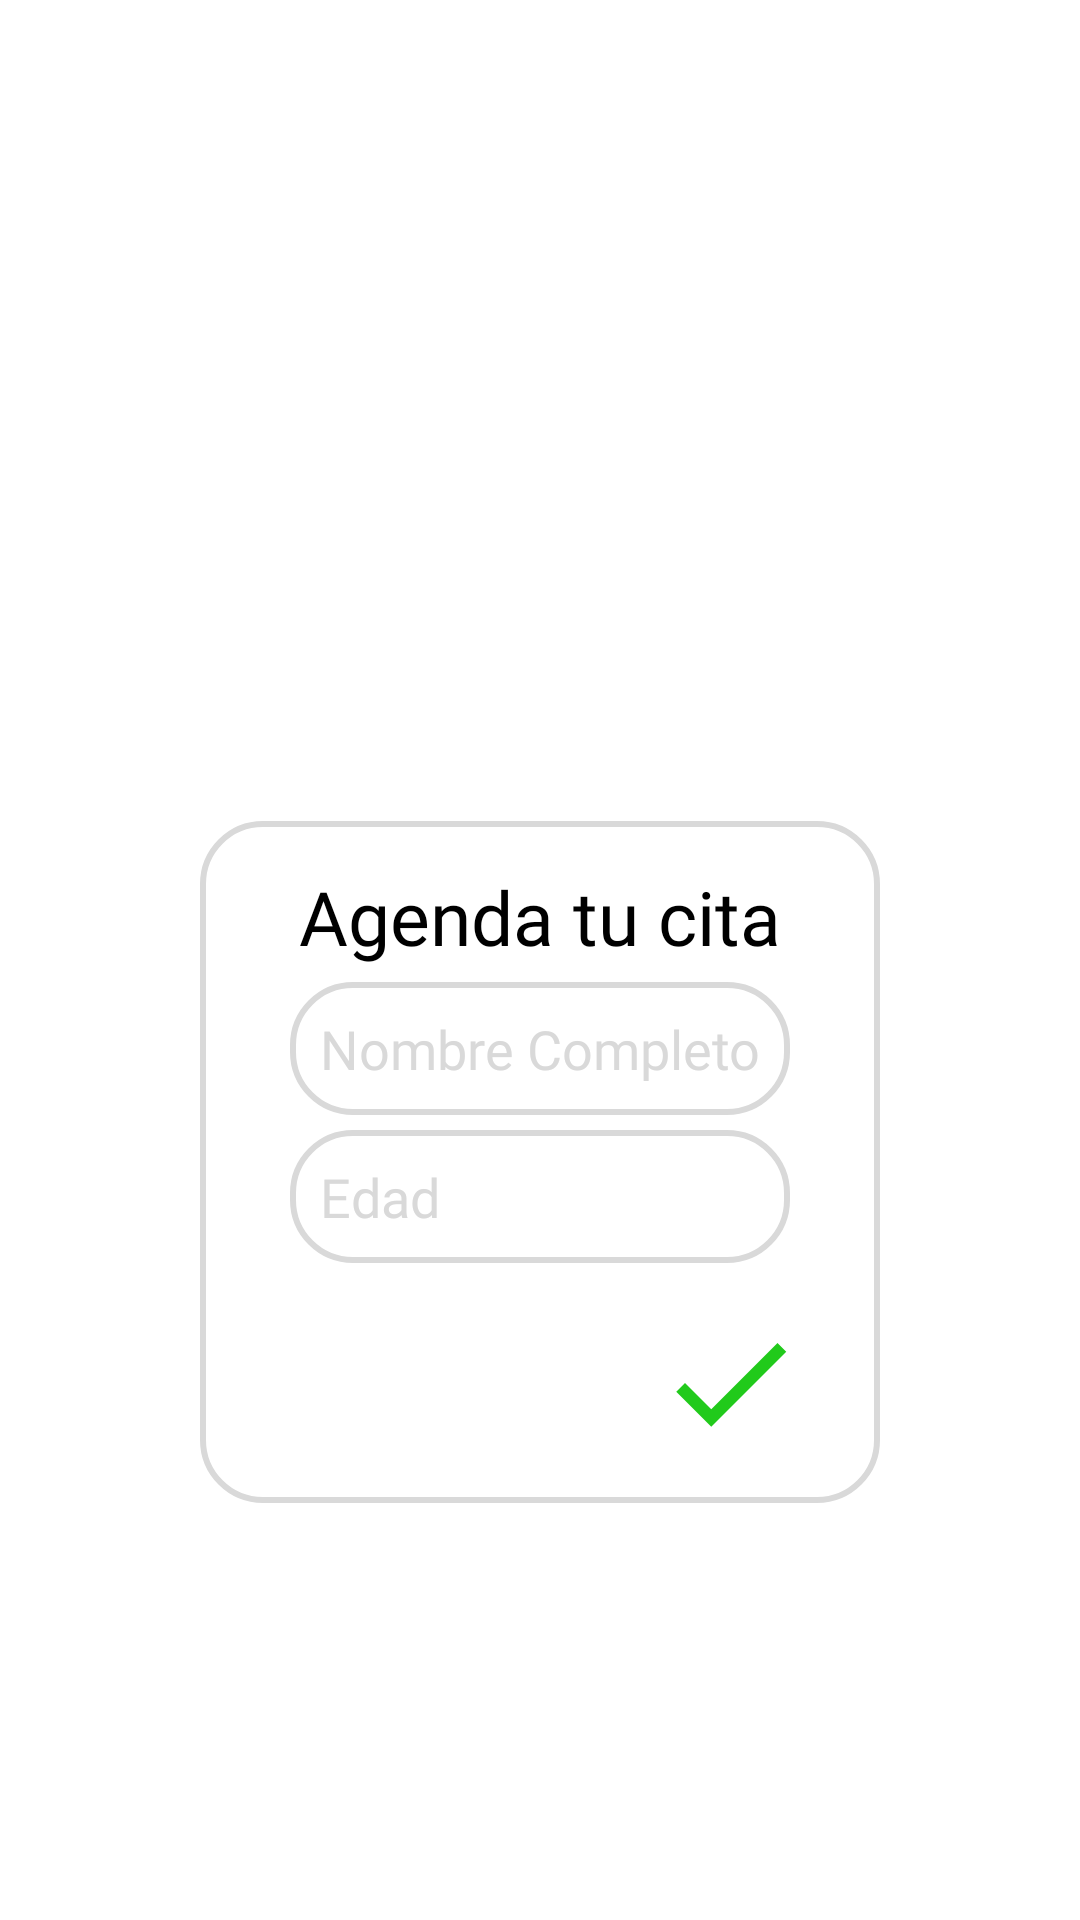

Named icons in this screenshot (1080x1920) and their bounding boxes, (x1, y1, x2, y2):
done: (676, 1343, 786, 1427)
